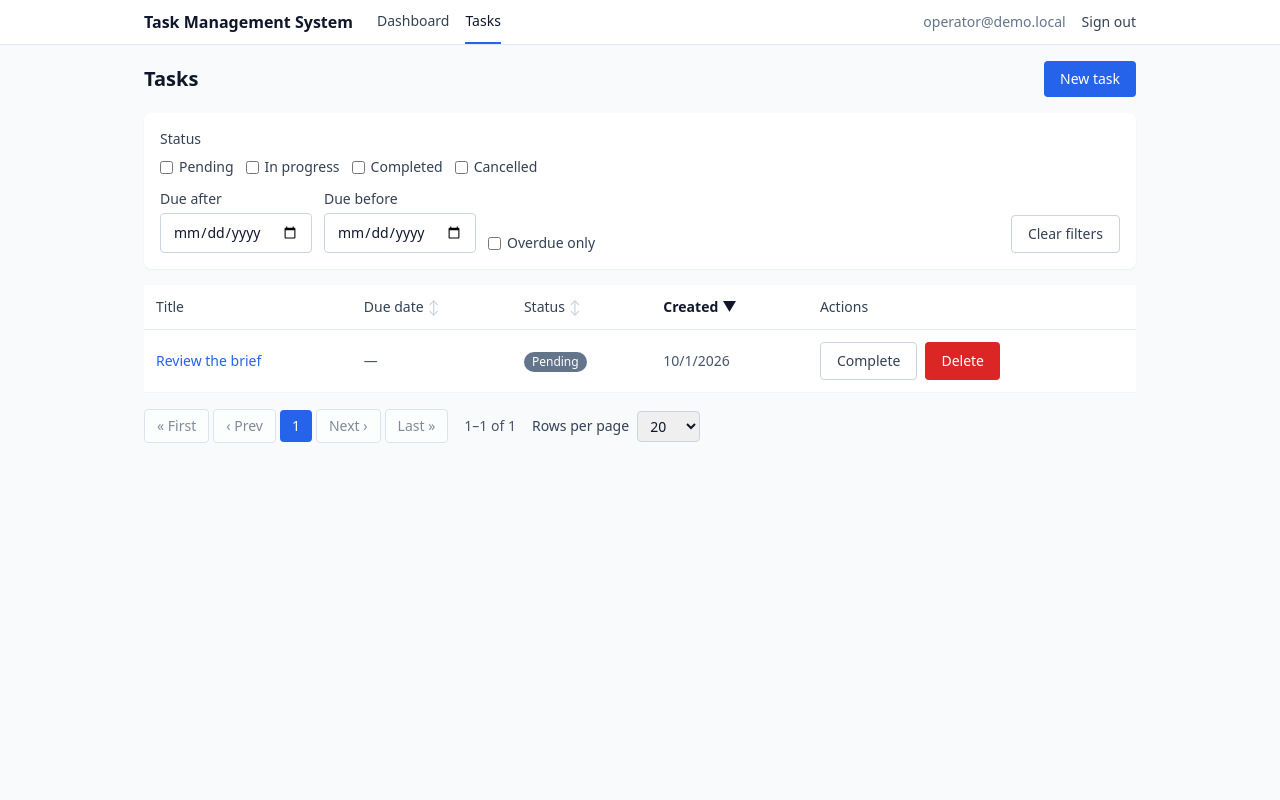
Test: task deletion from the list › keeps the dialog open and shows the error when deletion fails
Click the button with aria-label "delete review the brief" at (963,361), box [925, 342, 1000, 380]
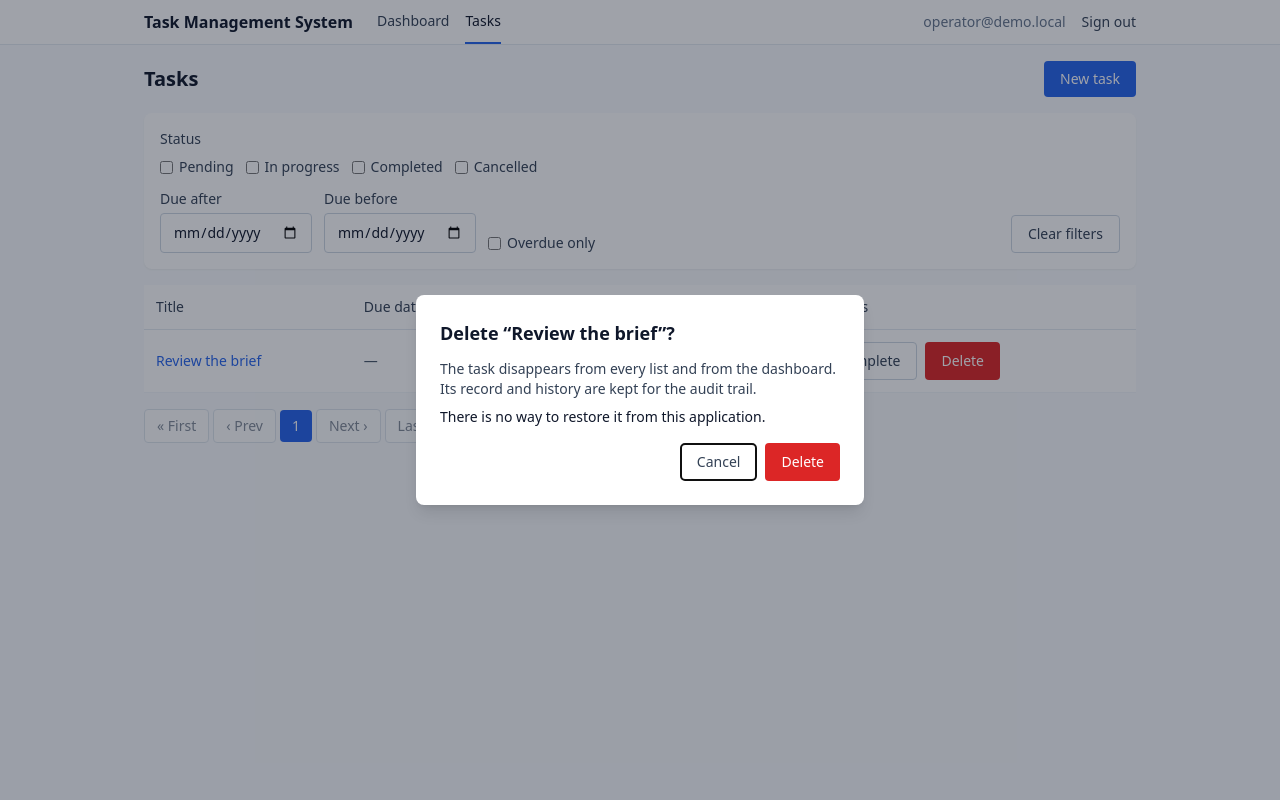
Click the button "Delete" at (803,462), box [765, 443, 840, 481]
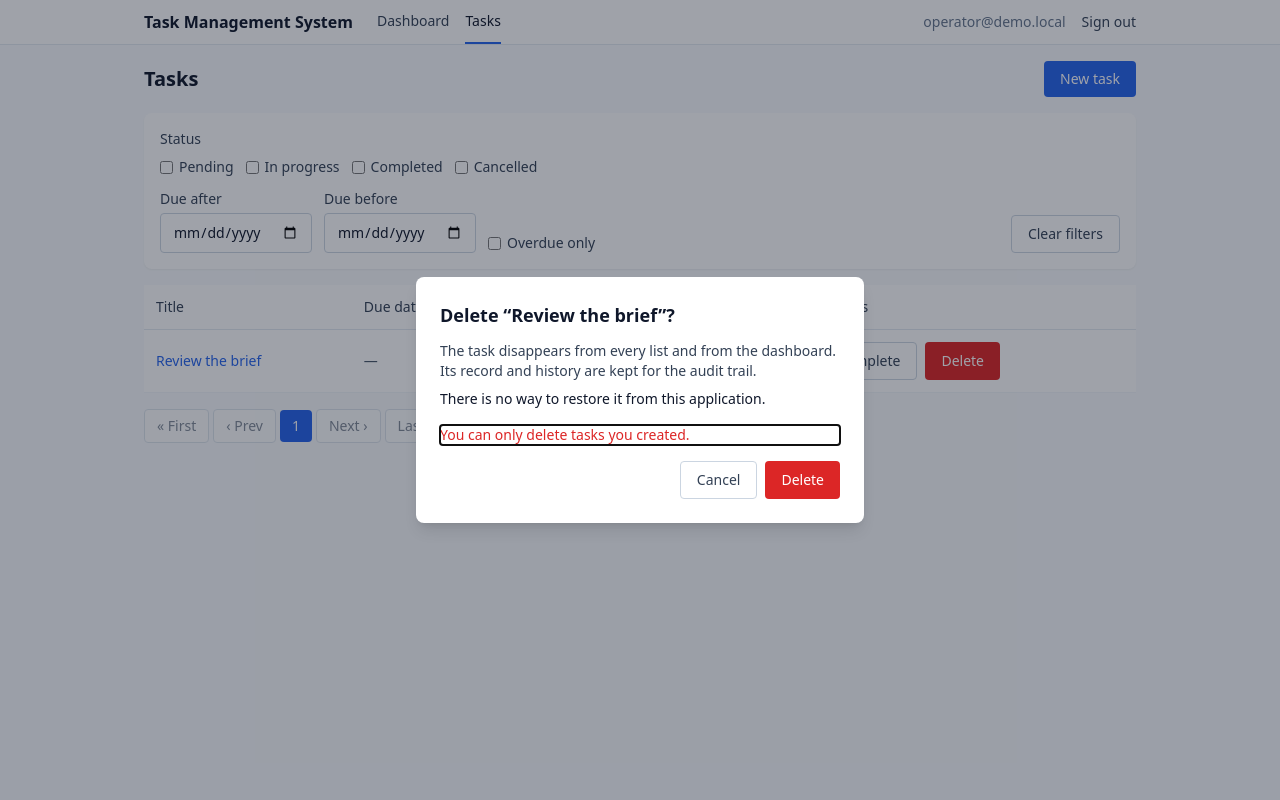
expect the dialog is shown: met
expect the message shows "only delete tasks you created": met, box [440, 425, 690, 444]
